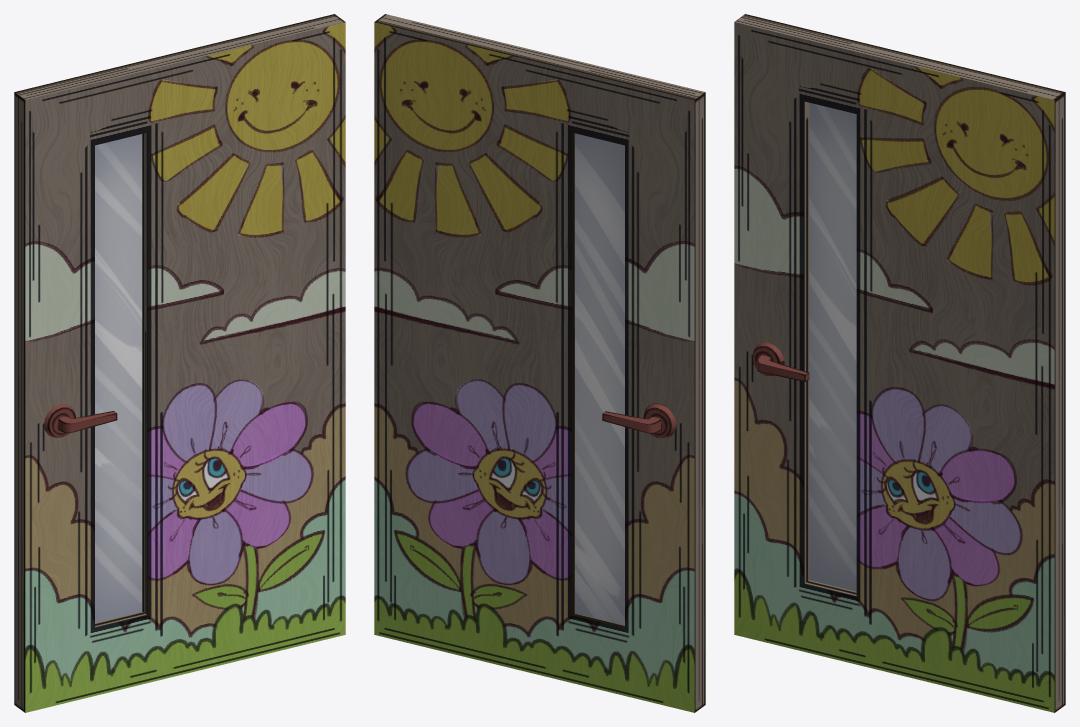
File: Kindergarten door.fbx
3 views of the same model, side by side, from view 1: azimuth 30°, elevation 25°; view 2: azimuth 150°, elevation 25°; view 3: azimuth 330°, elevation 25° (orthographic).
Parts seen in each view (by area): view 1: Cube.172, Cube.170, Cube.173, Cylinder.006; view 2: Cube.172, Cube.170, Cube.171, Cylinder.004; view 3: Cube.172, Cube.170, Cube.173.
Boxes of the visible parts, <box> form: Cube.172: <box>14,14,345,712</box>; Cube.170: <box>95,134,142,622</box>; Cube.173: <box>58,411,117,433</box>; Cylinder.006: <box>44,404,75,437</box>; Cube.172: <box>374,14,705,712</box>; Cube.170: <box>575,133,624,625</box>; Cube.171: <box>602,411,660,433</box>; Cylinder.004: <box>643,403,676,438</box>; Cube.172: <box>734,14,1065,712</box>; Cube.170: <box>809,102,856,591</box>; Cube.173: <box>757,355,809,381</box>.
Size of the model in its own units: 1.69 by 3.09 by 0.3006.
1 material, 1 textured.
